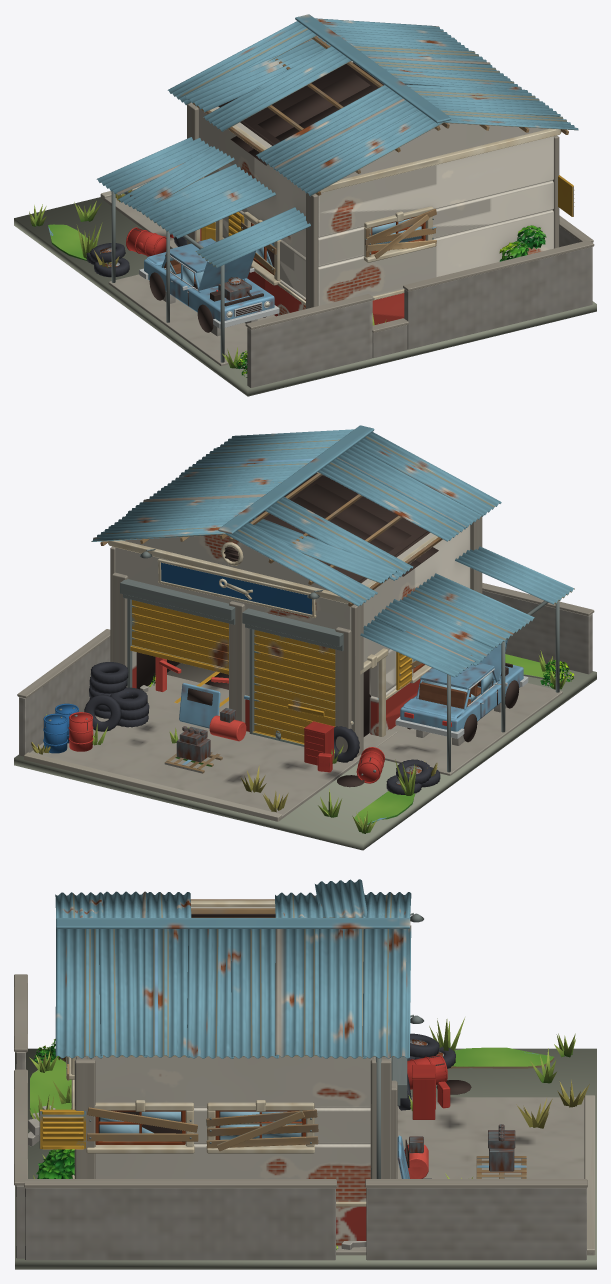
File: Lot_Oficina.fbx
3 renders of one model, top to bottom at view 1: azimuth 30°, elevation 25°; view 2: azimuth 150°, elevation 25°; view 3: azimuth 270°, elevation 25°, orthographic. The views are drawn at different scales.
Parts seen in each view (by area): view 1: OFI_building, OFI_roof, OFI_yard, OFI_shed, OFI_pad, OFI_junk; view 2: OFI_building, OFI_roof, OFI_yard, OFI_shed, OFI_junk, OFI_pad; view 3: OFI_yard, OFI_roof, OFI_building, OFI_pad, OFI_junk.
Part boxes in pixels (bbox=[...]): OFI_building: bbox=[187, 36, 574, 324]; OFI_roof: bbox=[167, 14, 578, 196]; OFI_yard: bbox=[29, 181, 594, 387]; OFI_shed: bbox=[96, 137, 310, 362]; OFI_pad: bbox=[14, 197, 596, 396]; OFI_junk: bbox=[86, 227, 186, 277]; OFI_building: bbox=[108, 472, 482, 757]; OFI_roof: bbox=[91, 425, 501, 606]; OFI_yard: bbox=[17, 583, 594, 833]; OFI_shed: bbox=[179, 546, 574, 772]; OFI_junk: bbox=[43, 662, 440, 794]; OFI_pad: bbox=[14, 664, 596, 850]; OFI_yard: bbox=[14, 974, 595, 1260]; OFI_roof: bbox=[55, 879, 411, 1058]; OFI_building: bbox=[39, 900, 423, 1246]; OFI_pad: bbox=[15, 1048, 596, 1269]; OFI_junk: bbox=[398, 1033, 526, 1178].
Size of the model in its own units: 10.16 by 5.83 by 11.62.
Materials: 1 (1 with a texture image).
